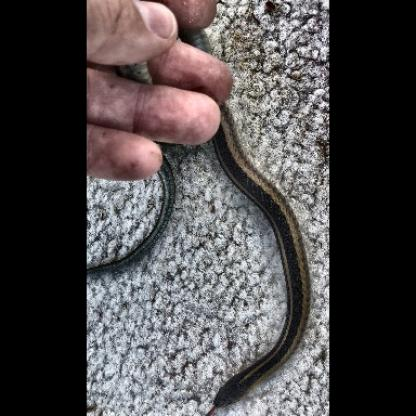Snake: (96, 181, 314, 413)
